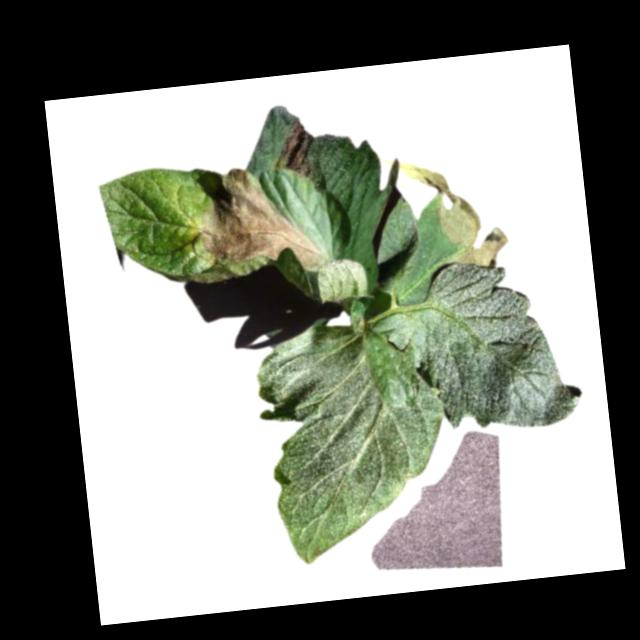Late_blight: (194, 158, 328, 284), (397, 147, 514, 274), (268, 119, 316, 182)
